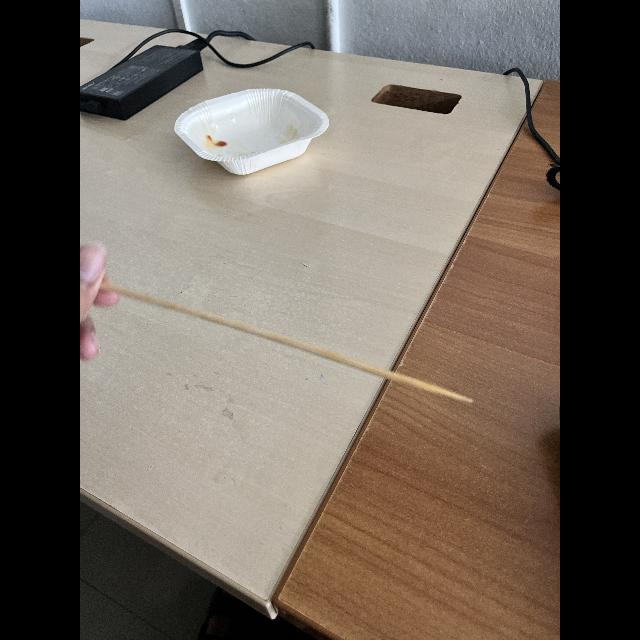cardboard_bowl: (175, 88, 338, 184)
stick: (90, 250, 490, 428)
